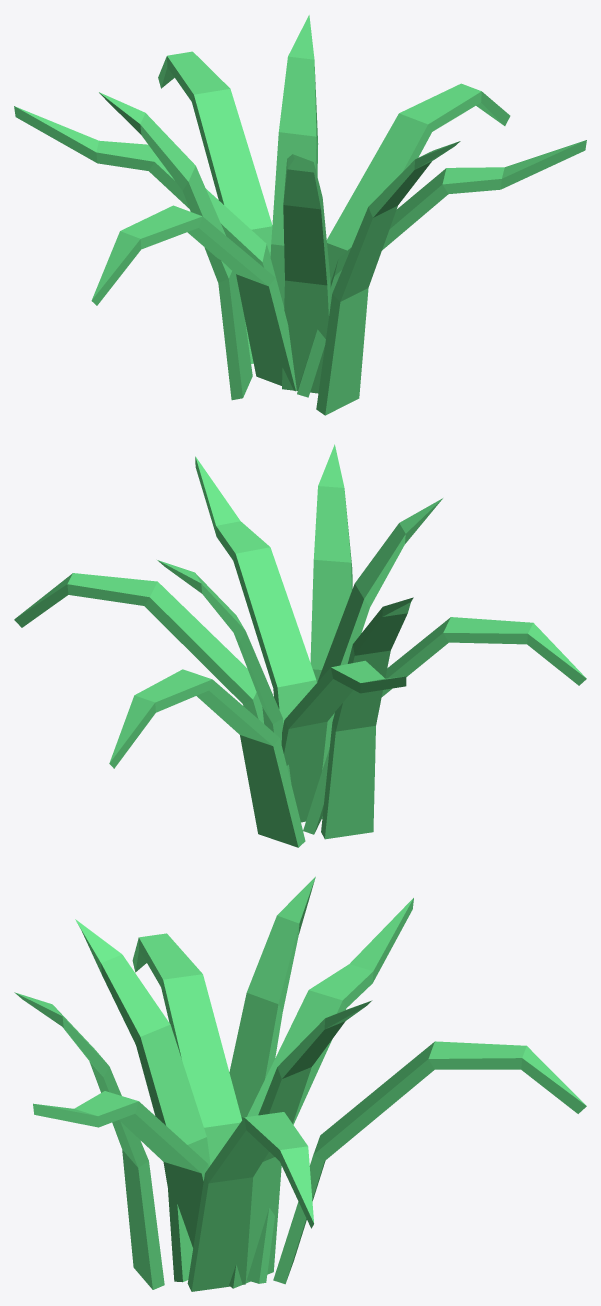
The model's file is grass_1.fbx.
3 renders of one model, top to bottom at view 1: azimuth 30°, elevation 25°; view 2: azimuth 150°, elevation 25°; view 3: azimuth 270°, elevation 25°, orthographic. The views are drawn at different scales.
Parts seen in each view (by area): view 1: grass; view 2: grass; view 3: grass.
Part boxes in pixels (x1,y1,x2,y2): grass: (14, 15, 586, 415); grass: (14, 444, 586, 847); grass: (14, 876, 586, 1291).
Bounding box in the file's own units: 77.95 × 43.81 × 71.67.
